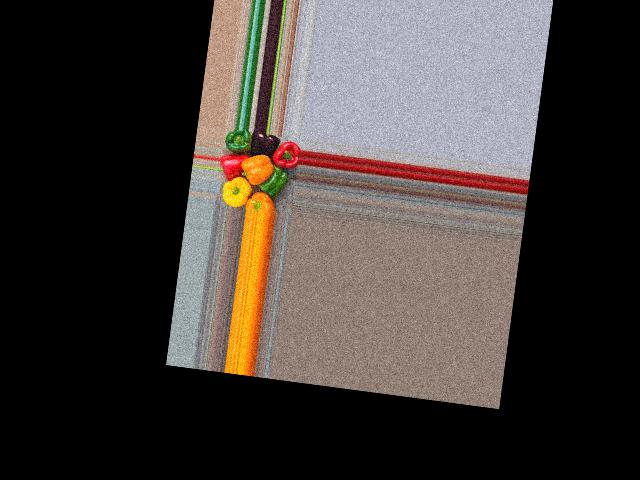bell_pepper: (246, 184, 285, 213)
